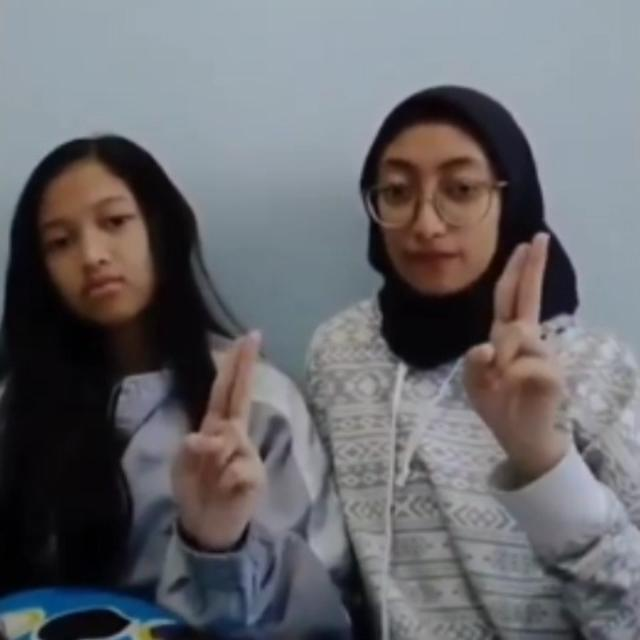U: (461, 228, 571, 470), (168, 324, 276, 544)
